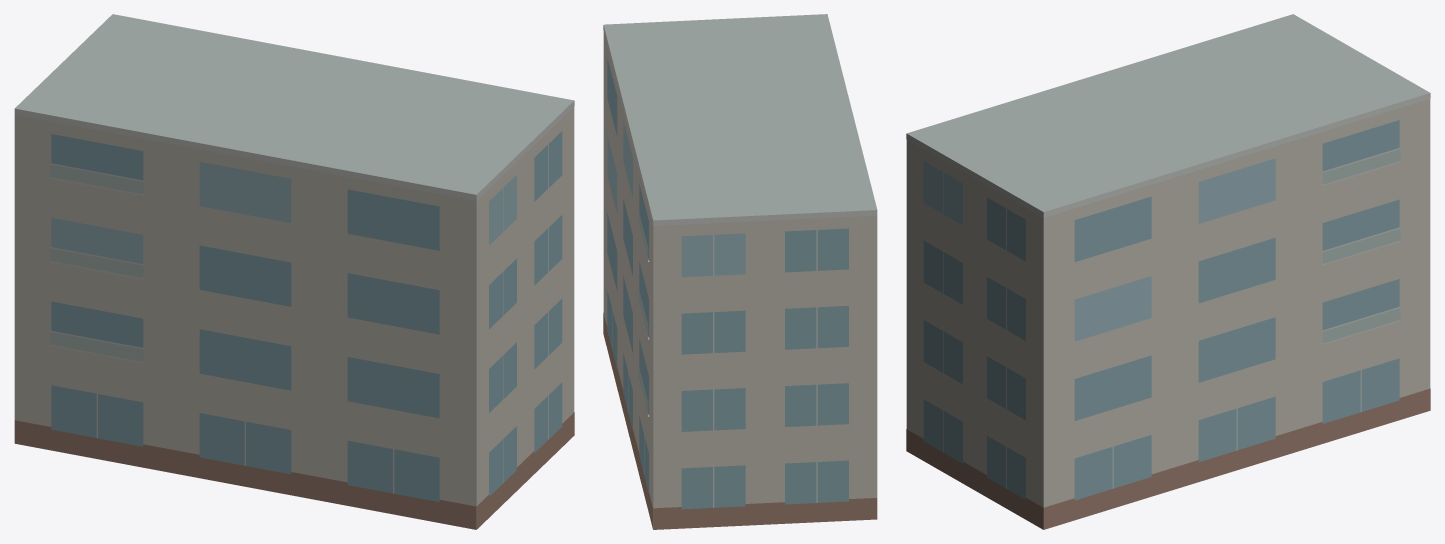
Rendered from survey-upis-32802298.glb.
The picture shows the model from 3 angles, left to right: view 1: azimuth 30°, elevation 25°; view 2: azimuth 150°, elevation 25°; view 3: azimuth 270°, elevation 25°; orthographic projection. The views are drawn at different scales.
Parts seen in each view (by area): view 1: survey-upis-32802298.tmp; view 2: survey-upis-32802298.tmp; view 3: survey-upis-32802298.tmp.
Boxes of the visible parts, x1,y1,x2,y2 form: survey-upis-32802298.tmp: (14, 14, 574, 529); survey-upis-32802298.tmp: (603, 14, 877, 529); survey-upis-32802298.tmp: (906, 14, 1430, 529).
Bounding box in the file's own units: 18.07 × 13.5 × 20.19.
